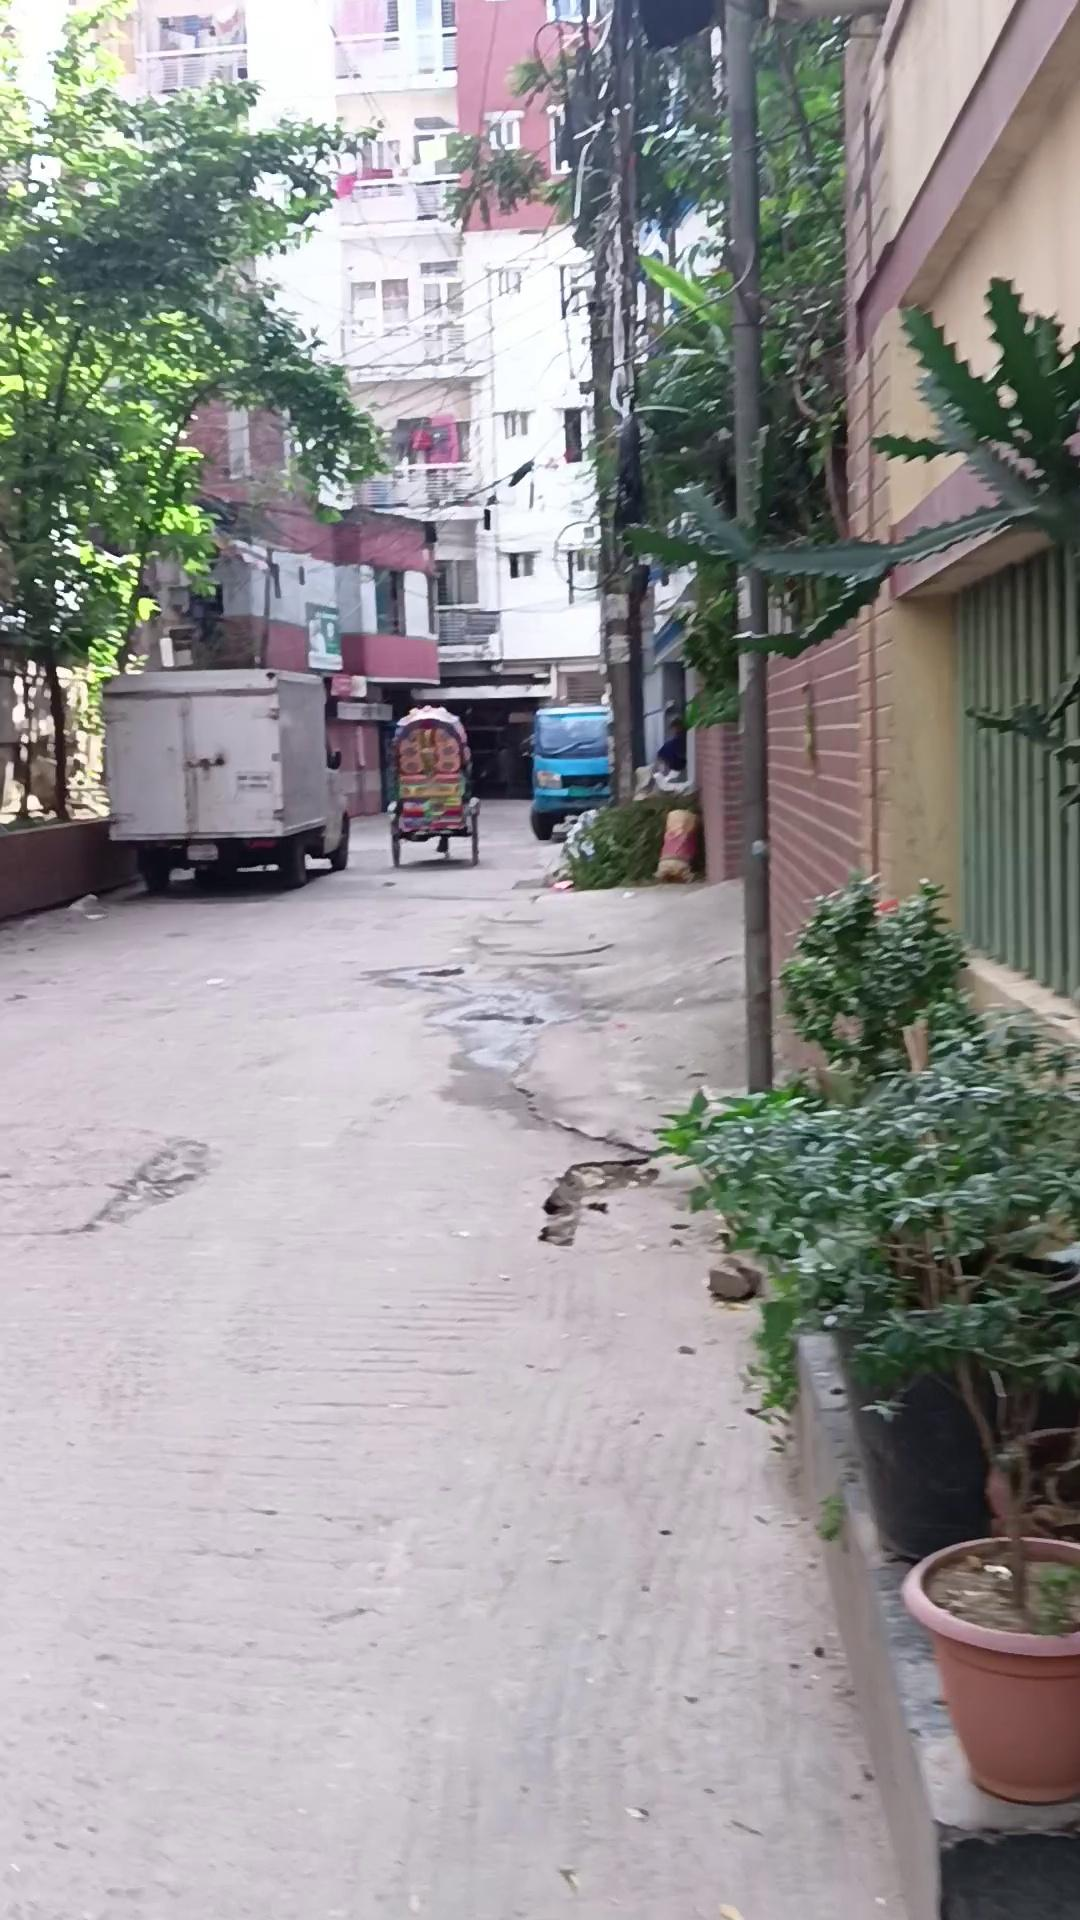Broken-road: (11, 806, 955, 1920)
Crosswalk: (789, 1324, 944, 1916)
Muddy road: (651, 716, 684, 777)
Obstacle: (719, 1, 774, 1098), (599, 3, 649, 804)
Pole: (646, 866, 1080, 1818)
Pothole: (386, 704, 481, 868)
Traffic-sign: (99, 665, 349, 893), (527, 703, 613, 841)
